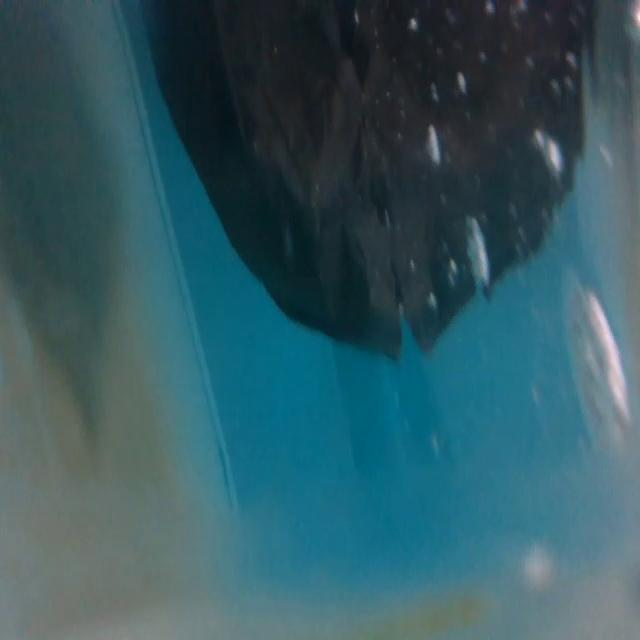plastic bags: (132, 1, 592, 363)
